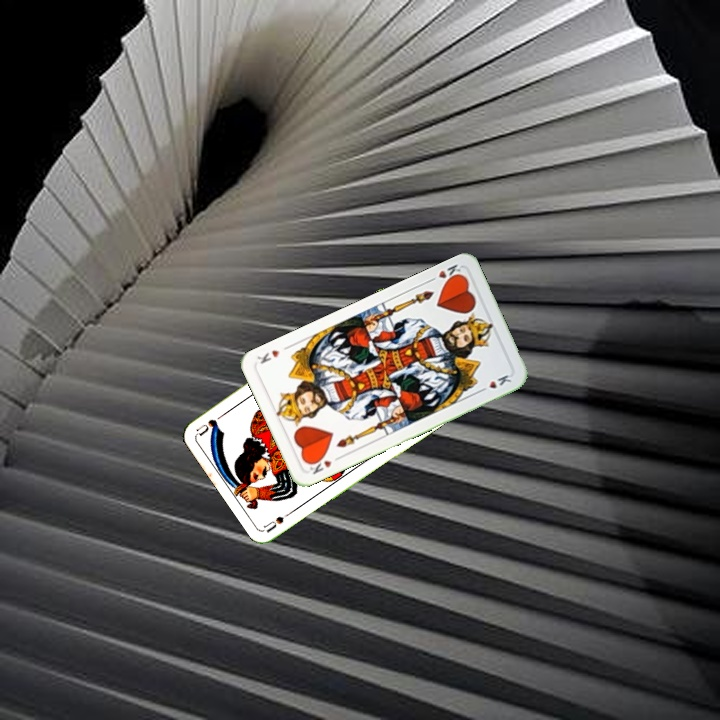HK: (424, 260, 466, 286), (305, 452, 334, 477)
SU: (261, 505, 298, 534)
